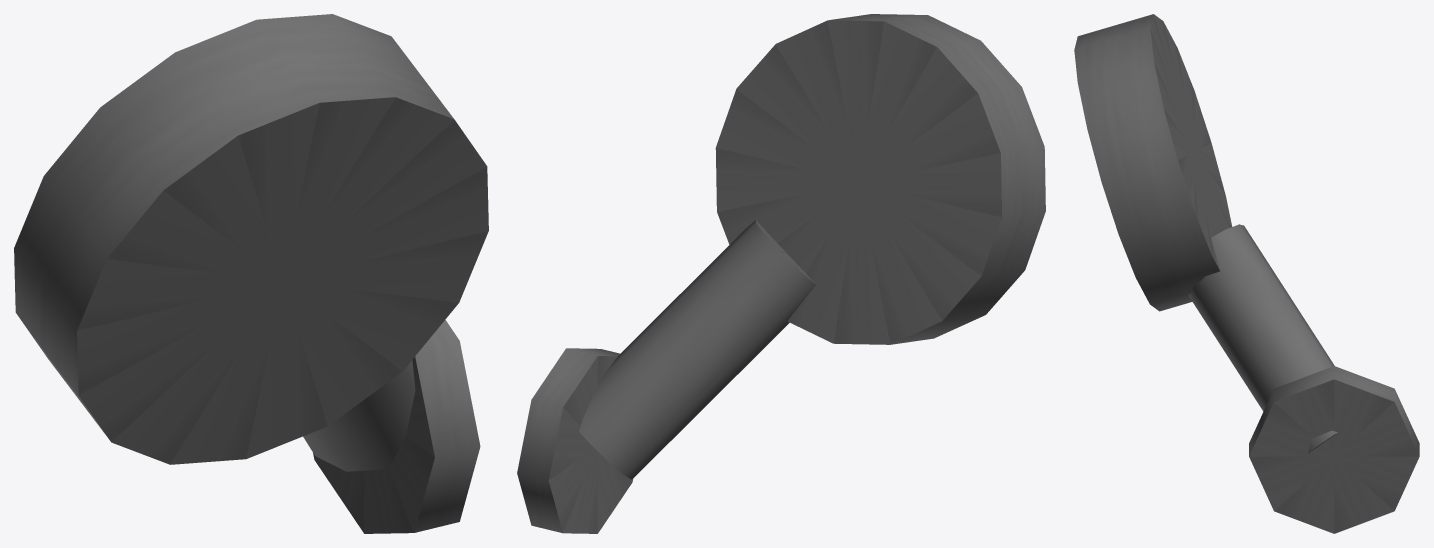
The model's file is mastarmcurve_6x2_c4_east.obj.
The picture shows the model from 3 angles, left to right: view 1: azimuth 30°, elevation 25°; view 2: azimuth 150°, elevation 25°; view 3: azimuth 270°, elevation 25°; orthographic projection. The views are drawn at different scales.
Visible parts, largest first — view 1: mastarm_6x2_c4_east; view 2: mastarm_6x2_c4_east; view 3: mastarm_6x2_c4_east.
Boxes of the visible parts, x1=… form: mastarm_6x2_c4_east: x1=14, y1=14, x2=488, y2=533; mastarm_6x2_c4_east: x1=517, y1=14, x2=1045, y2=533; mastarm_6x2_c4_east: x1=1074, y1=14, x2=1419, y2=533.
Size of the model in its own units: 0.847 by 1.08 by 0.8096.
